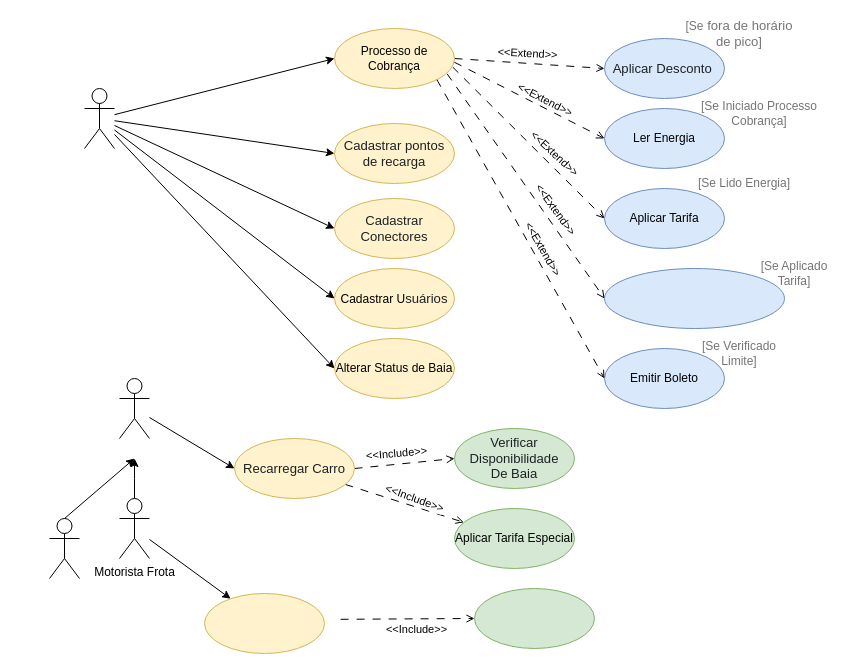
Image size: 862x671. Some labels were removed from this diagram. The box of each missing label's shape, as (x1, y1, x2, y2) in pixels:
Acessar Postos Exclusivos: (204, 592, 324, 654)
Motorista: (118, 378, 150, 438)
Motorista Comum: (48, 518, 80, 578)
Operador Posto: (84, 88, 114, 148)
Verificar Afiliação: (474, 588, 594, 648)
Verificar Limite de Crédito <<Crédito Maior Q Mínimo>>: (604, 268, 784, 328)
